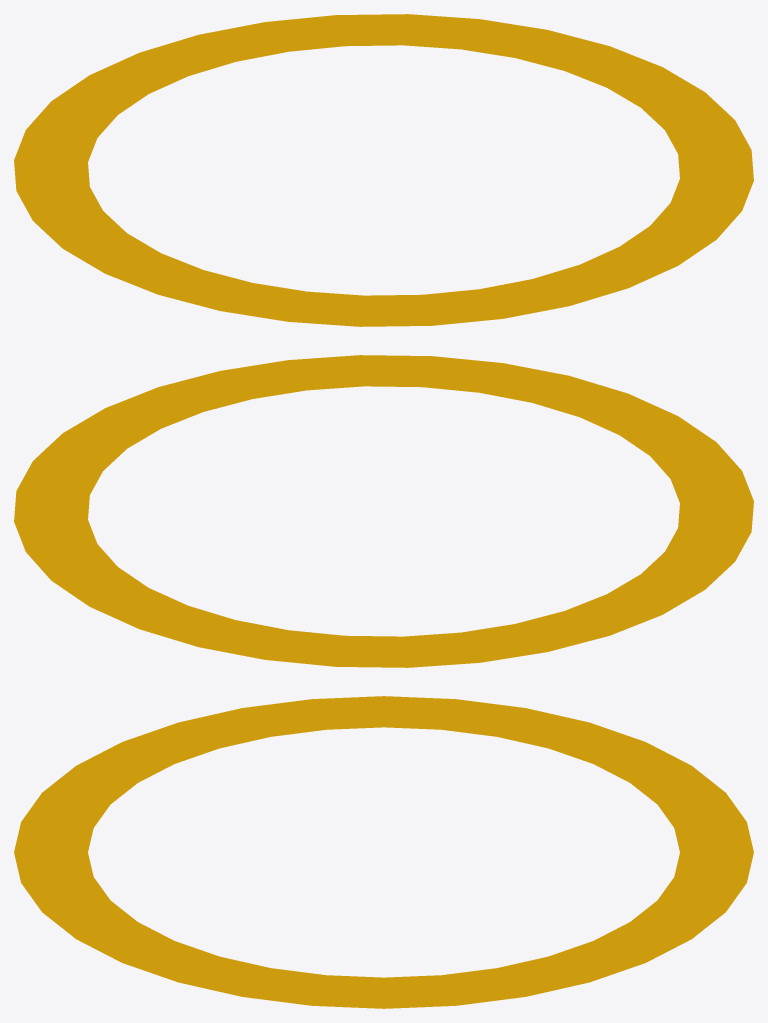
The picture shows the model from 3 angles, top to bottom: view 1: azimuth 30°, elevation 25°; view 2: azimuth 150°, elevation 25°; view 3: azimuth 270°, elevation 25°; orthographic projection.
Visible parts, largest first — view 1: Circle; view 2: Circle; view 3: Circle.
Part boxes in pixels (box(x1,y1,x2,y2)): Circle: box(14, 14, 753, 326); Circle: box(14, 355, 753, 667); Circle: box(14, 696, 753, 1008).
Bounding box in the file's own units: 200 × 3.26e-05 × 200.
